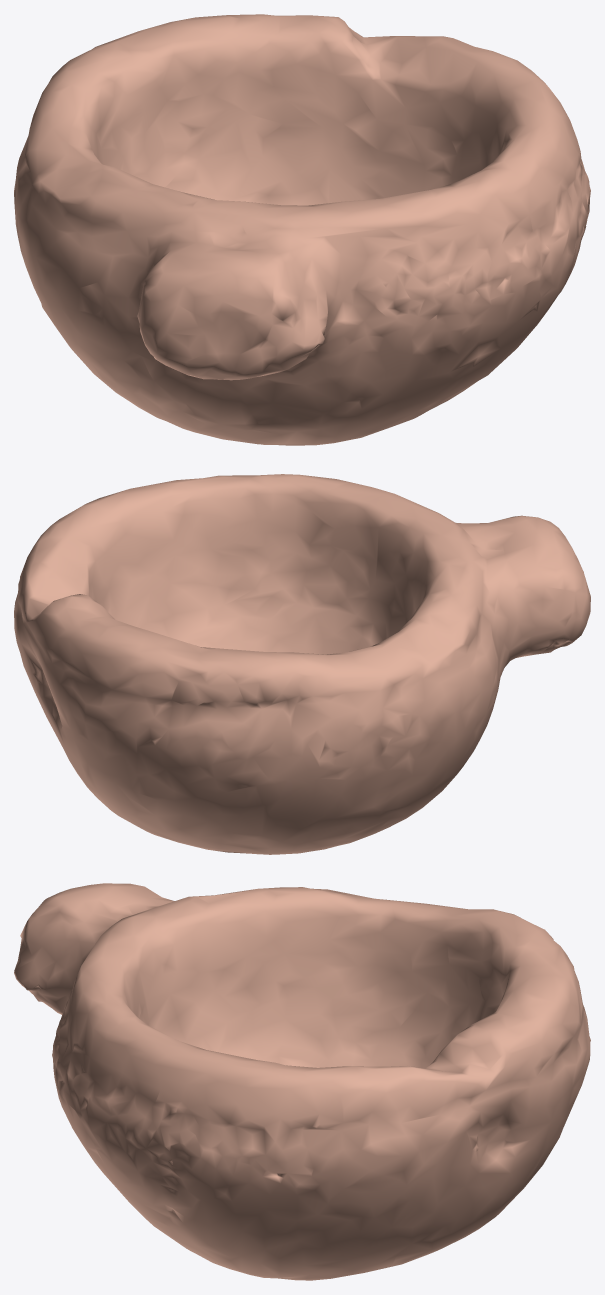
File: wc-iron-age-cup-lamp.lod1.glb
3 renders of one model, top to bottom at view 1: azimuth 30°, elevation 25°; view 2: azimuth 150°, elevation 25°; view 3: azimuth 270°, elevation 25°, orthographic. The views are drawn at different scales.
Parts seen in each view (by area): view 1: wc-iron-age-cup-lamp; view 2: wc-iron-age-cup-lamp; view 3: wc-iron-age-cup-lamp.
Part boxes in pixels (left/top/right/bottom): wc-iron-age-cup-lamp: left=14, top=14, right=590, bottom=445; wc-iron-age-cup-lamp: left=14, top=474, right=590, bottom=854; wc-iron-age-cup-lamp: left=14, top=883, right=590, bottom=1280.
Bounding box in the file's own units: 0.1122 × 0.0599 × 0.1172.
